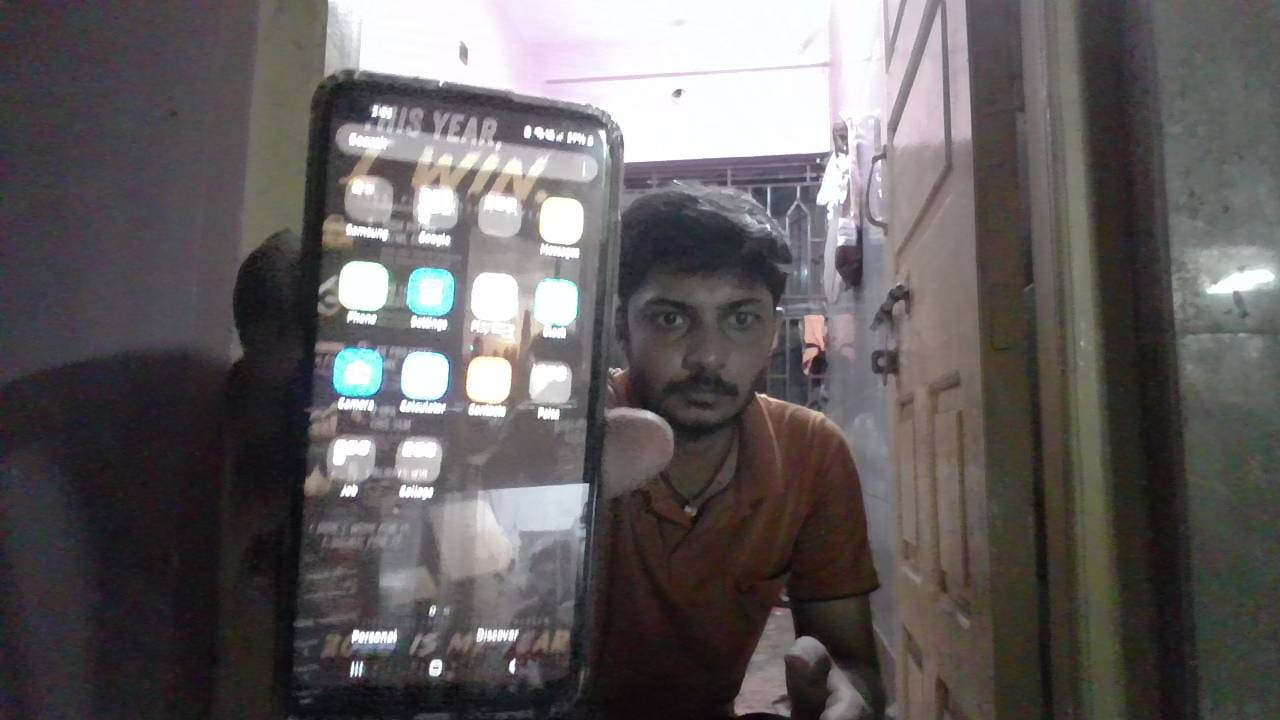red_box: (724, 415, 864, 545)
